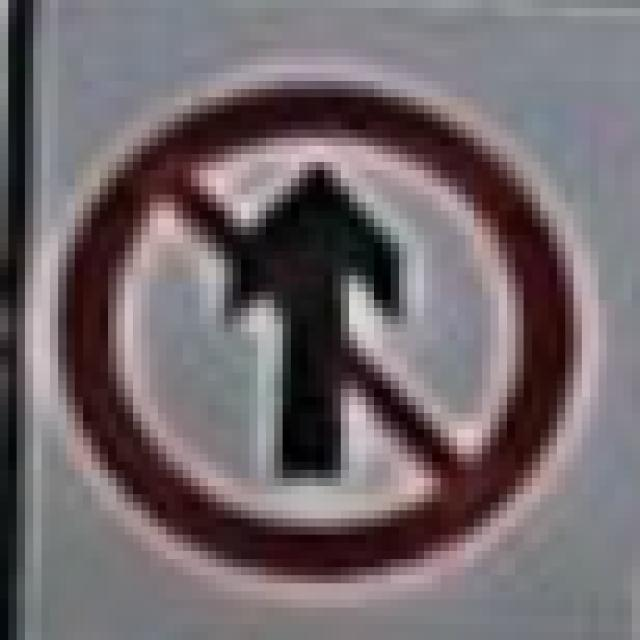Not that Direction: (48, 66, 583, 582)
